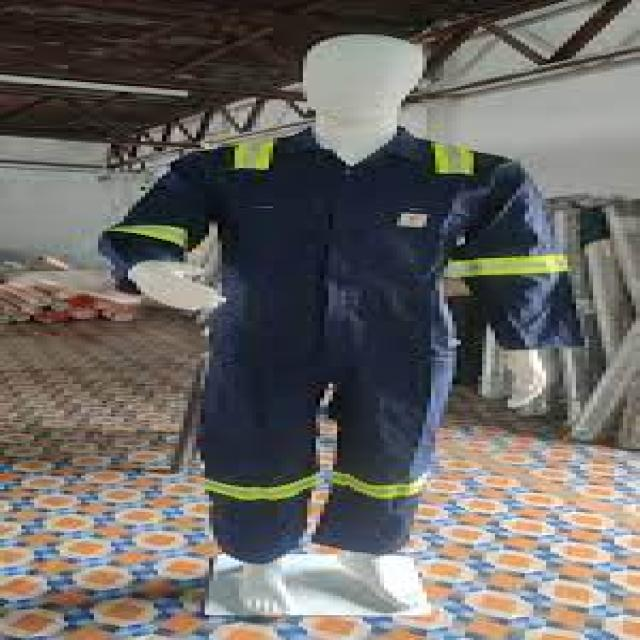vest: (101, 128, 585, 564)
